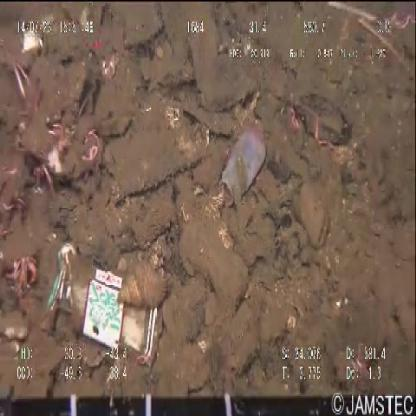Rác: (38, 239, 164, 369), (218, 124, 266, 210)
